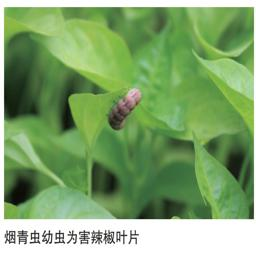Tobacco_budworm: (105, 86, 145, 134)
